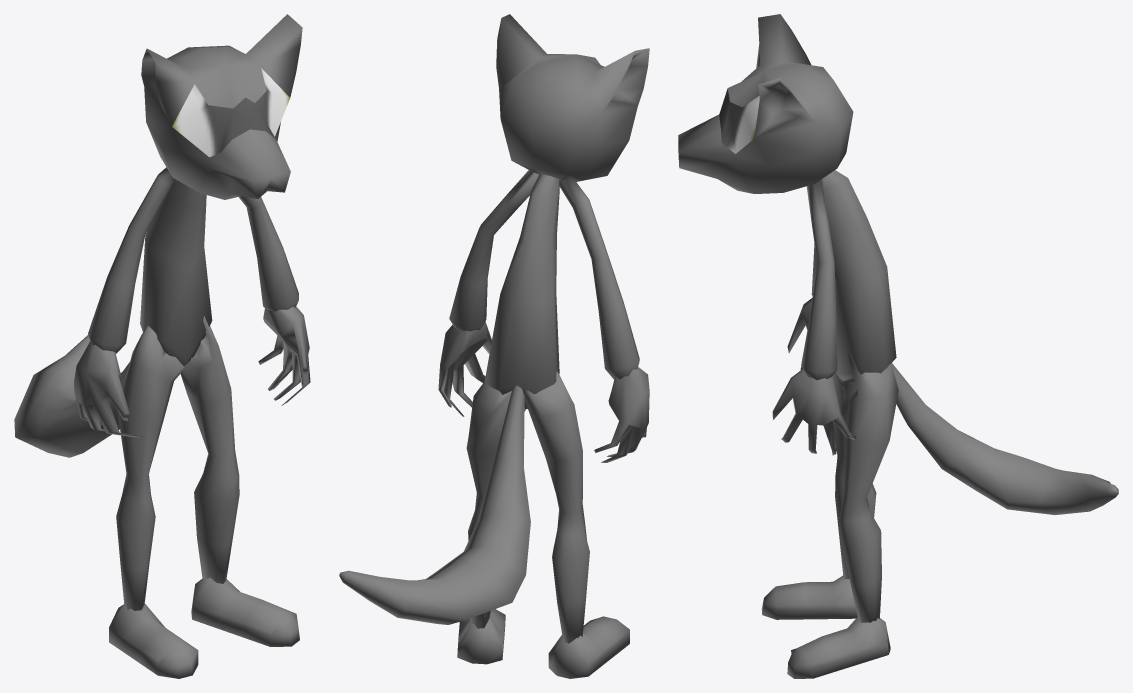
File: werewolfstand2.obj
3 renders of one model, left to right at view 1: azimuth 30°, elevation 25°; view 2: azimuth 150°, elevation 25°; view 3: azimuth 270°, elevation 25°, orthographic. The views are drawn at different scales.
Parts seen in each view (by area): view 1: Sphere001, Object001; view 2: Sphere001; view 3: Sphere001, Object001.
Boxes of the visible parts, x1,y1,x2,y2 form: Sphere001: (14,14,310,678); Object001: (172,68,289,157); Sphere001: (339,14,649,678); Sphere001: (678,14,1118,678); Object001: (719,89,759,153).
Bounding box in the file's own units: 56.77 × 158 × 106.
